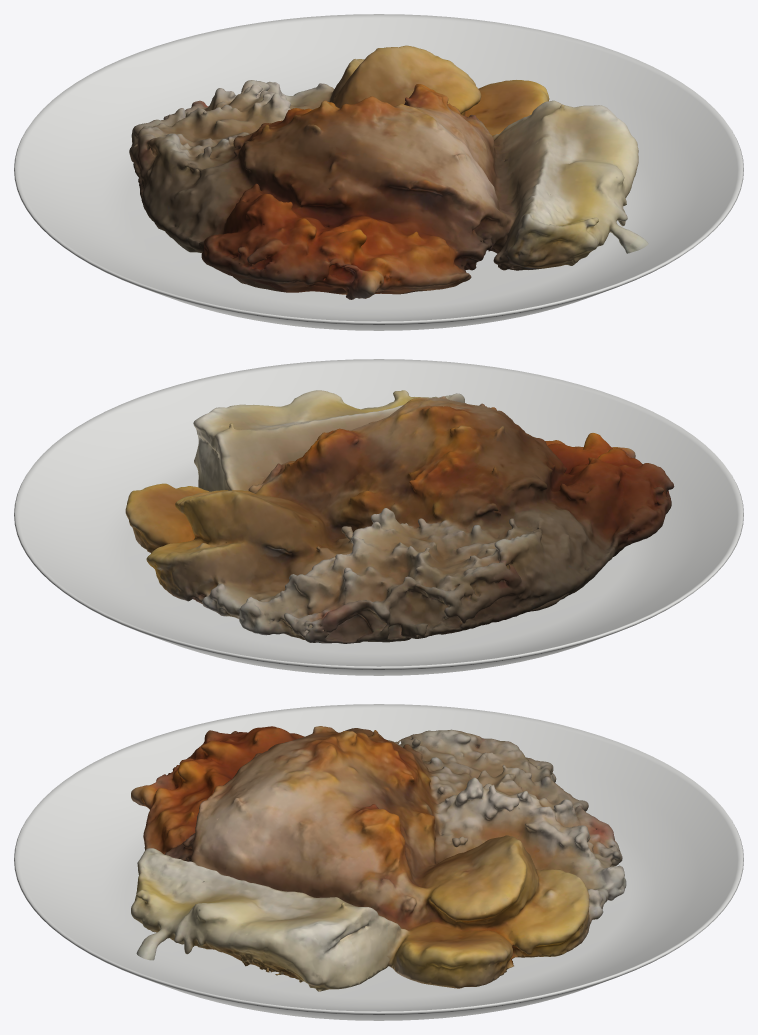
File: almuerzo.glb
The picture shows the model from 3 angles, top to bottom: view 1: azimuth 30°, elevation 25°; view 2: azimuth 150°, elevation 25°; view 3: azimuth 270°, elevation 25°; orthographic projection.
Parts seen in each view (by area): view 1: plato; view 2: plato; view 3: plato.
Boxes of the visible parts, left/top/right/bottom form: plato: left=14, top=14, right=743, bottom=330; plato: left=14, top=359, right=743, bottom=675; plato: left=14, top=704, right=743, bottom=1020.
Size of the model in its own units: 0.2875 by 0.0623 by 0.2875.
Materials: 2 (1 with a texture image).
